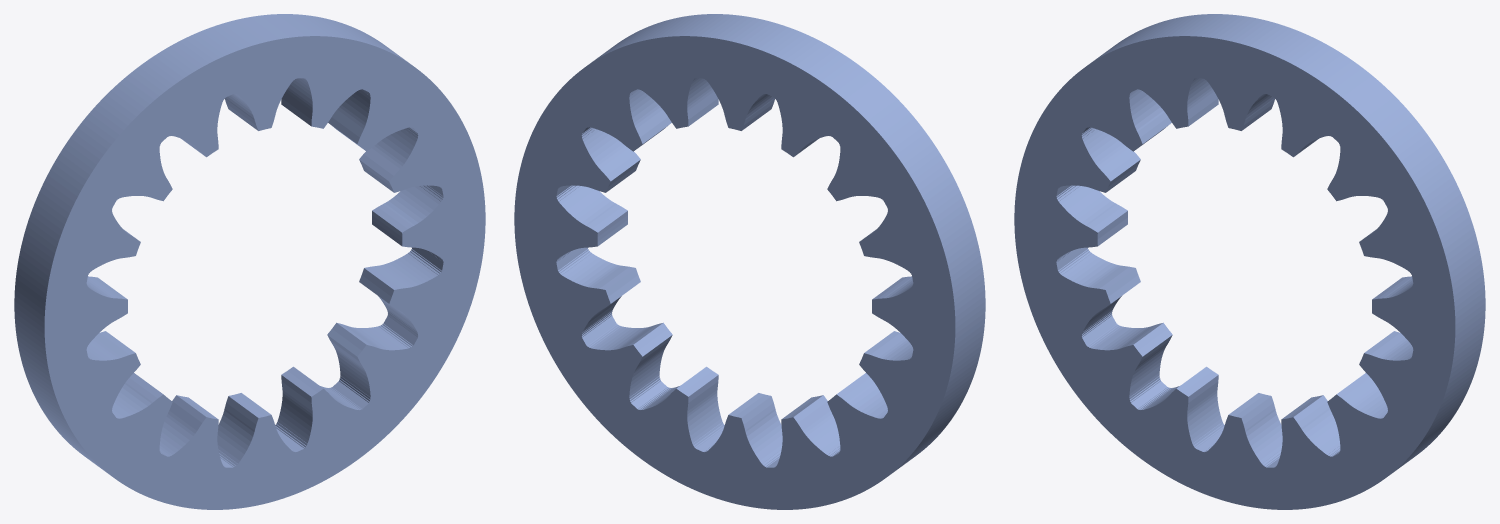
Rendered from internal_gear_2d_demo.glb.
The picture shows the model from 3 angles, left to right: view 1: azimuth 30°, elevation 25°; view 2: azimuth 150°, elevation 25°; view 3: azimuth 330°, elevation 25°; orthographic projection.
Visible parts, largest first — view 1: internal_gear; view 2: internal_gear; view 3: internal_gear.
Boxes of the visible parts, x1,y1,x2,y2 form: internal_gear: (14,14,485,509); internal_gear: (514,14,985,509); internal_gear: (1014,14,1485,509).
Size of the model in its own units: 33.75 by 33.75 by 4.
